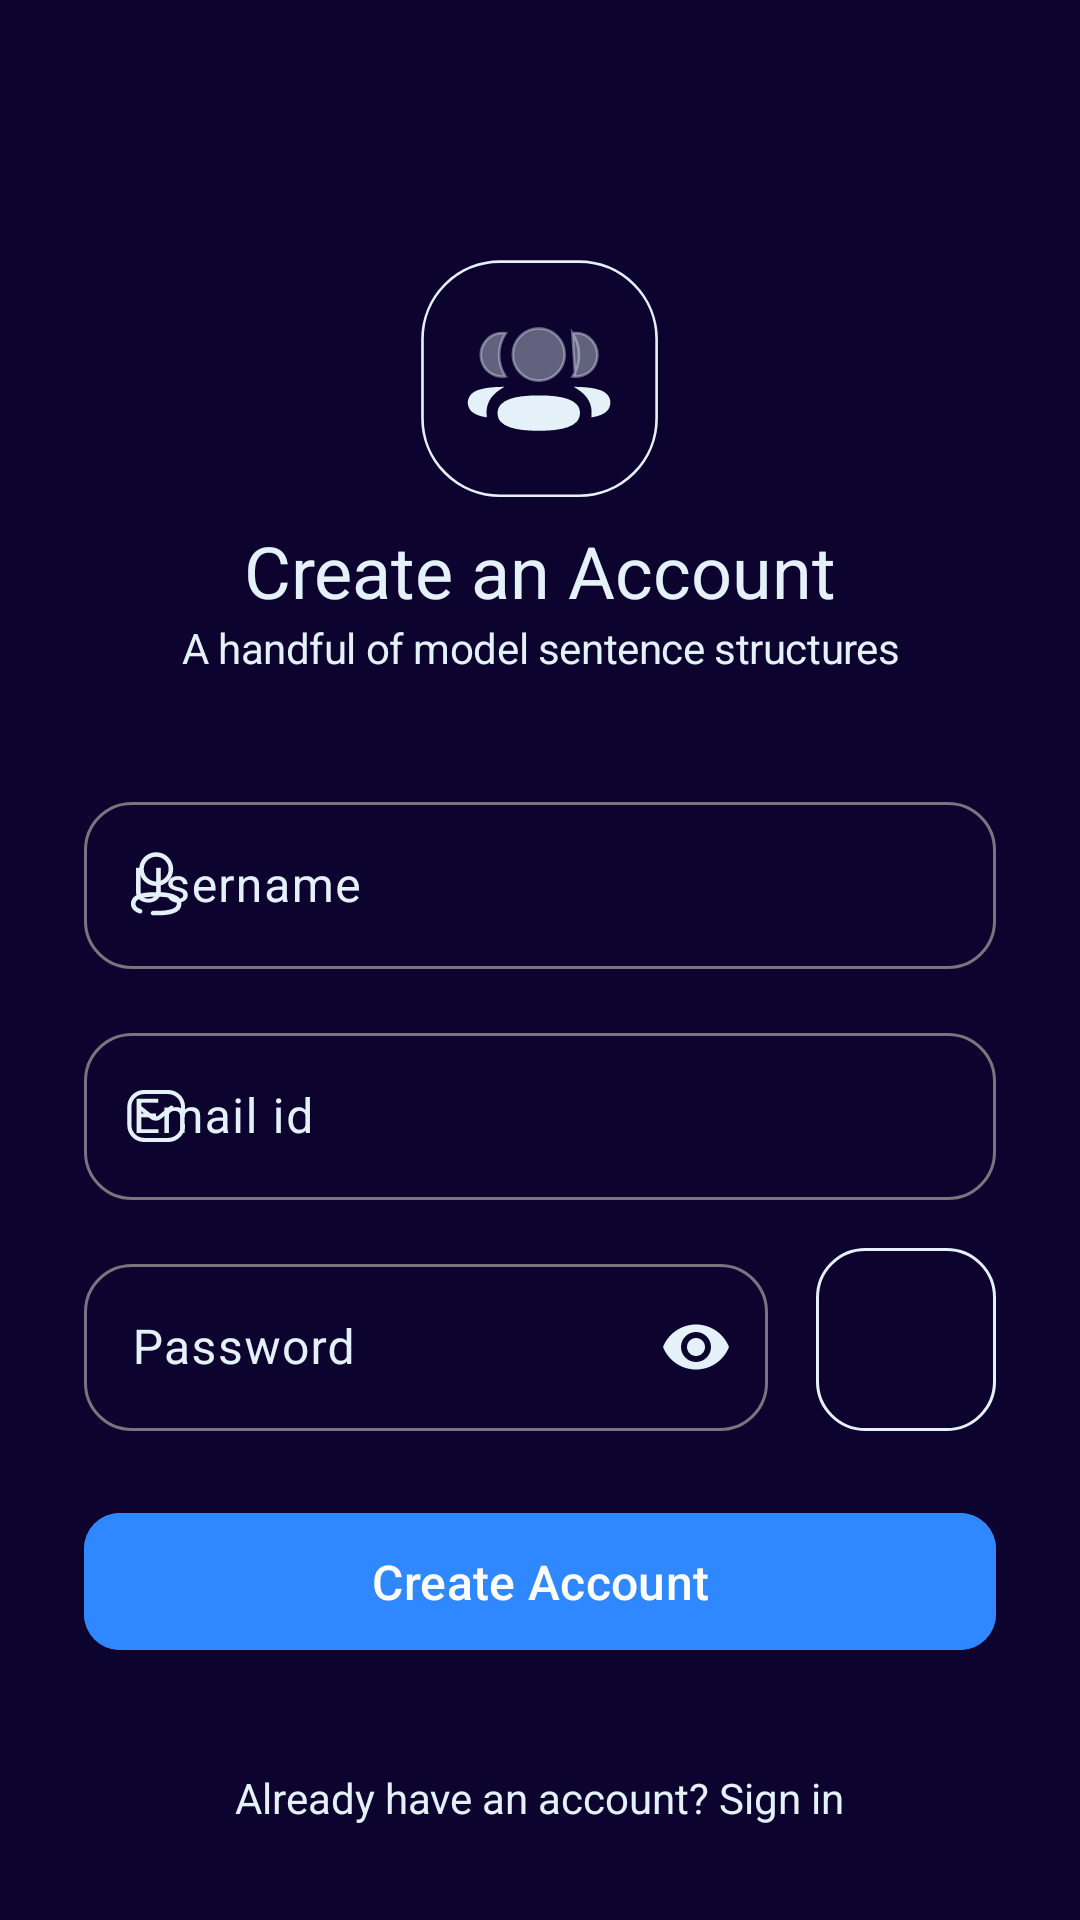

Named icons in this screenshot (1080 x 1920) and their bounding boxes, {"x1": x1, "y1": y1, "x2": x2, "y2": y2}:
people: {"x1": 421, "y1": 260, "x2": 658, "y2": 497}
